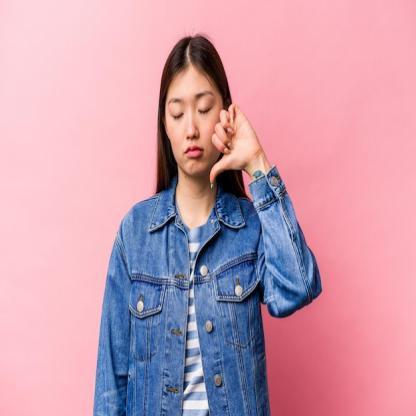thumb_down: (208, 96, 259, 188)
